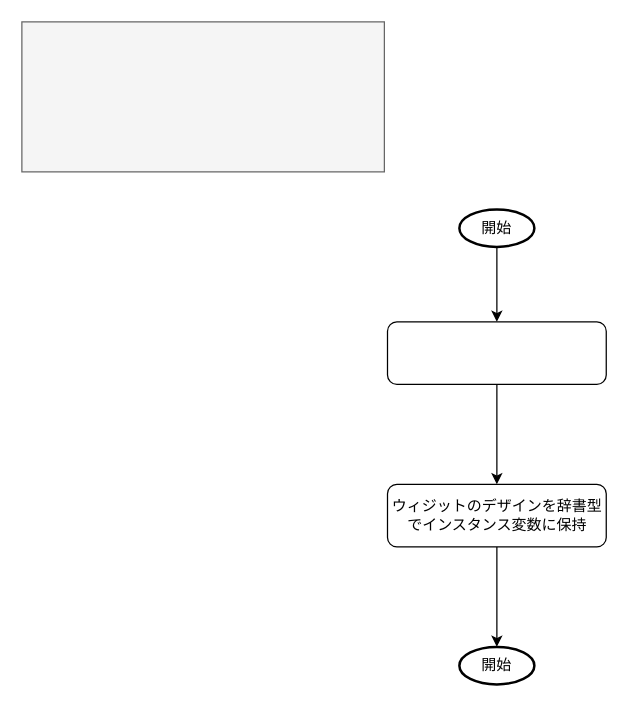
Some shapes in this 629 by 708 pixel diagram are drawn without their labels. The box of each missing label's shape, as (x1, y1, x2, y2) in pixels:
フォント設定をタプル型でインスタンス変数に保持: (386, 321, 606, 384)
初期化メソッド クラス：StyleManagerクラス 役割 ウィジットのまとめておきたいデザイン設定を保持する。: (21, 21, 384, 172)
